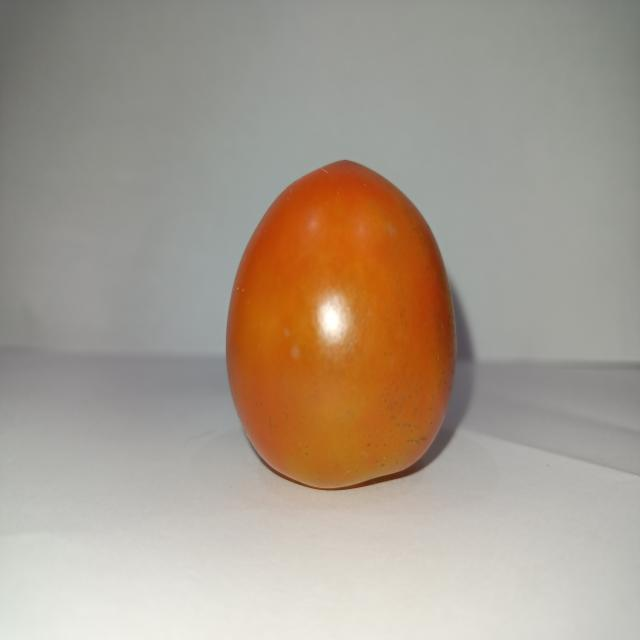Red: (224, 157, 457, 490)
